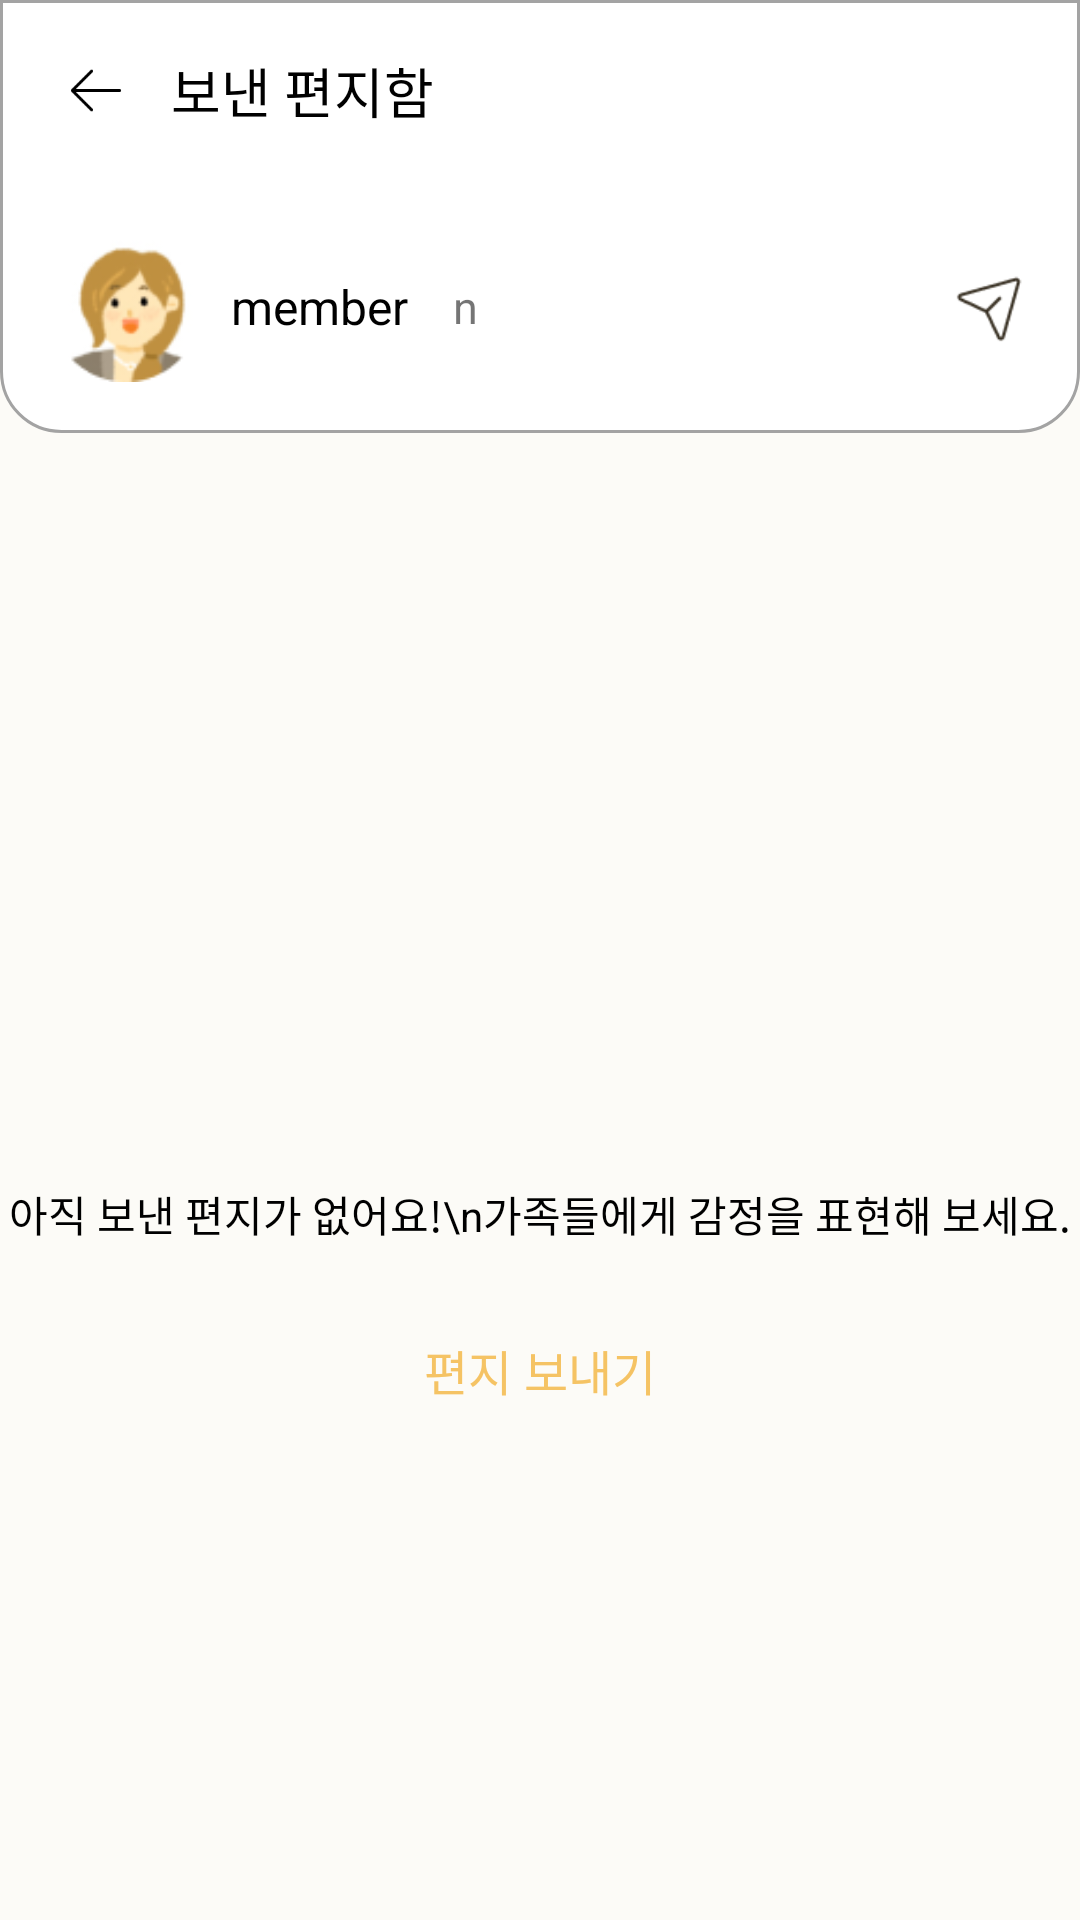

Screen size 1080px×1920px. Icon name, then its box in pixels as (x1, y1, x2, y2):
back: (71, 69, 121, 112)
message: (957, 277, 1021, 341)
